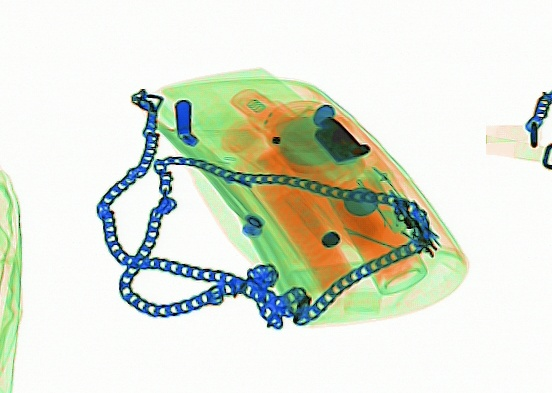pressure: (326, 161, 429, 296)
